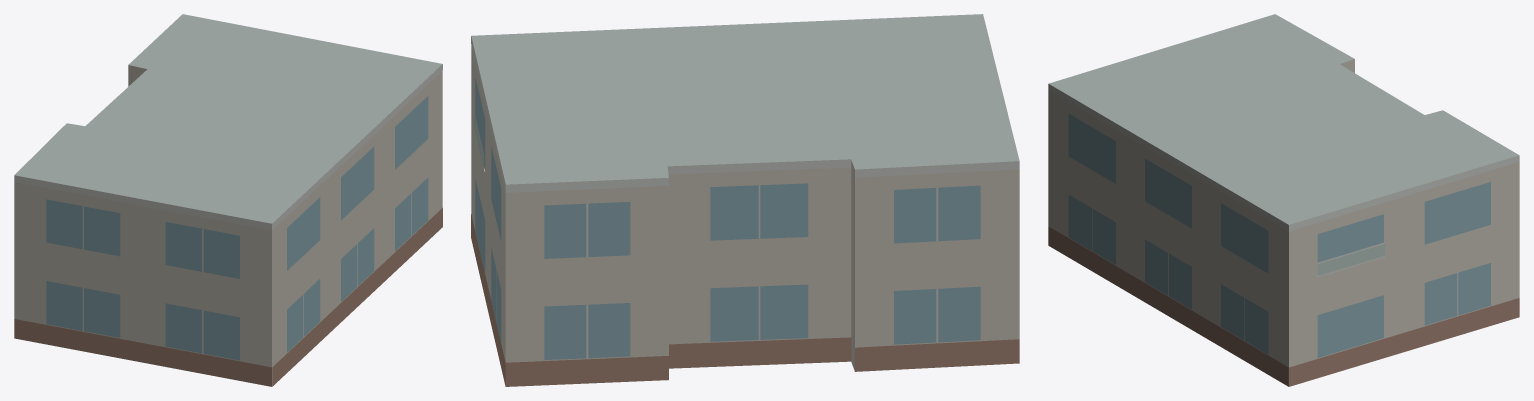
File: survey-upis-32877278.glb
3 renders of one model, left to right at view 1: azimuth 30°, elevation 25°; view 2: azimuth 150°, elevation 25°; view 3: azimuth 270°, elevation 25°, orthographic. The views are drawn at different scales.
Parts seen in each view (by area): view 1: survey-upis-32877278.tmp; view 2: survey-upis-32877278.tmp; view 3: survey-upis-32877278.tmp.
Boxes of the visible parts, left/top/right/bottom form: survey-upis-32877278.tmp: left=14, top=14, right=442, bottom=386; survey-upis-32877278.tmp: left=471, top=14, right=1019, bottom=386; survey-upis-32877278.tmp: left=1048, top=14, right=1519, bottom=386.
Bounding box in the file's own units: 17.05 × 6.1 × 16.09.
